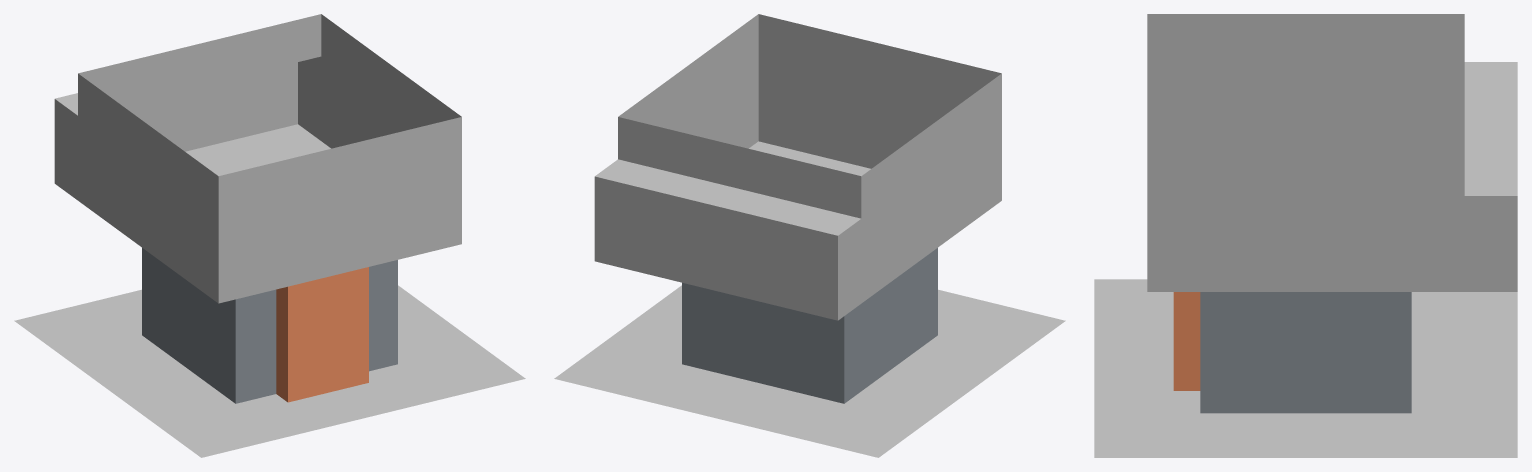
File: cell_359.obj
3 renders of one model, left to right at view 1: azimuth 30°, elevation 25°; view 2: azimuth 150°, elevation 25°; view 3: azimuth 270°, elevation 25°, orthographic. The views are drawn at different scales.
Bounding box in the file's own units: 1 × 0.75 × 1.
